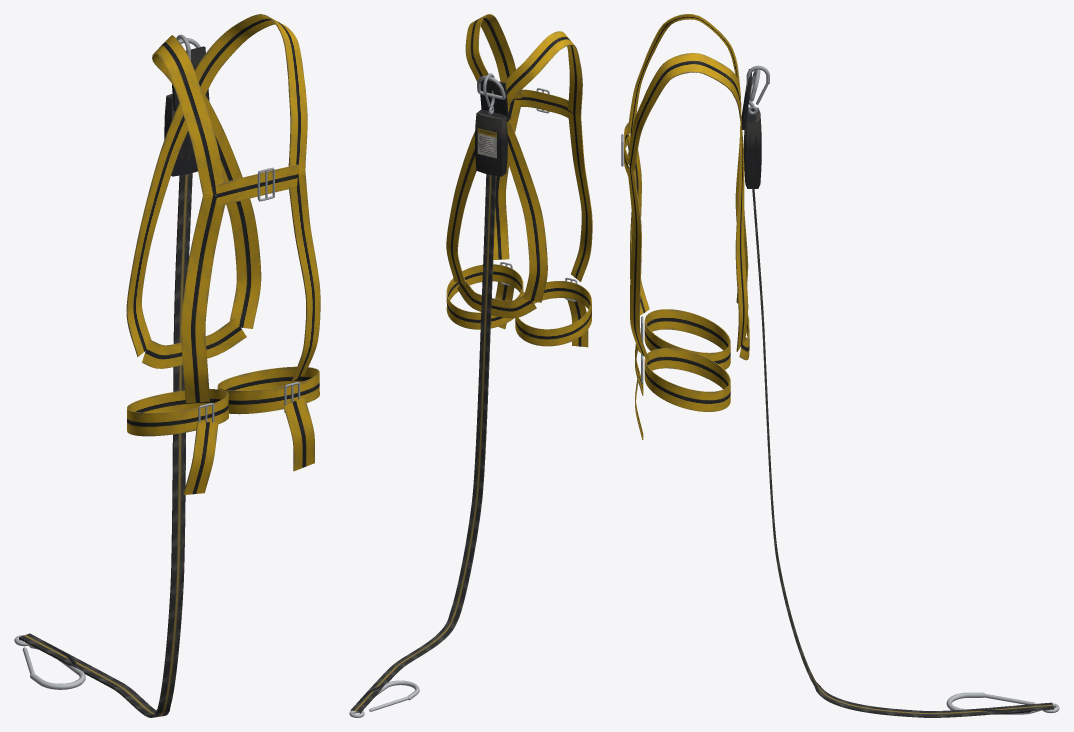
File: SM_Harnais_Avec_Longe.glb
3 renders of one model, left to right at view 1: azimuth 30°, elevation 25°; view 2: azimuth 150°, elevation 25°; view 3: azimuth 270°, elevation 25°, orthographic. The views are drawn at different scales.
Parts seen in each view (by area): view 1: SM_Harnais_Avec_Longe, object 17; view 2: SM_Harnais_Avec_Longe; view 3: SM_Harnais_Avec_Longe.
Boxes of the visible parts, x1,y1,x2,y2 form: SM_Harnais_Avec_Longe: (14, 14, 320, 717); object 17: (30, 645, 85, 689); SM_Harnais_Avec_Longe: (349, 14, 592, 717); SM_Harnais_Avec_Longe: (621, 14, 1059, 717).
Bounding box in the file's own units: 0.377 × 1.54 × 0.9055.
Materials: 8 (5 with a texture image).
